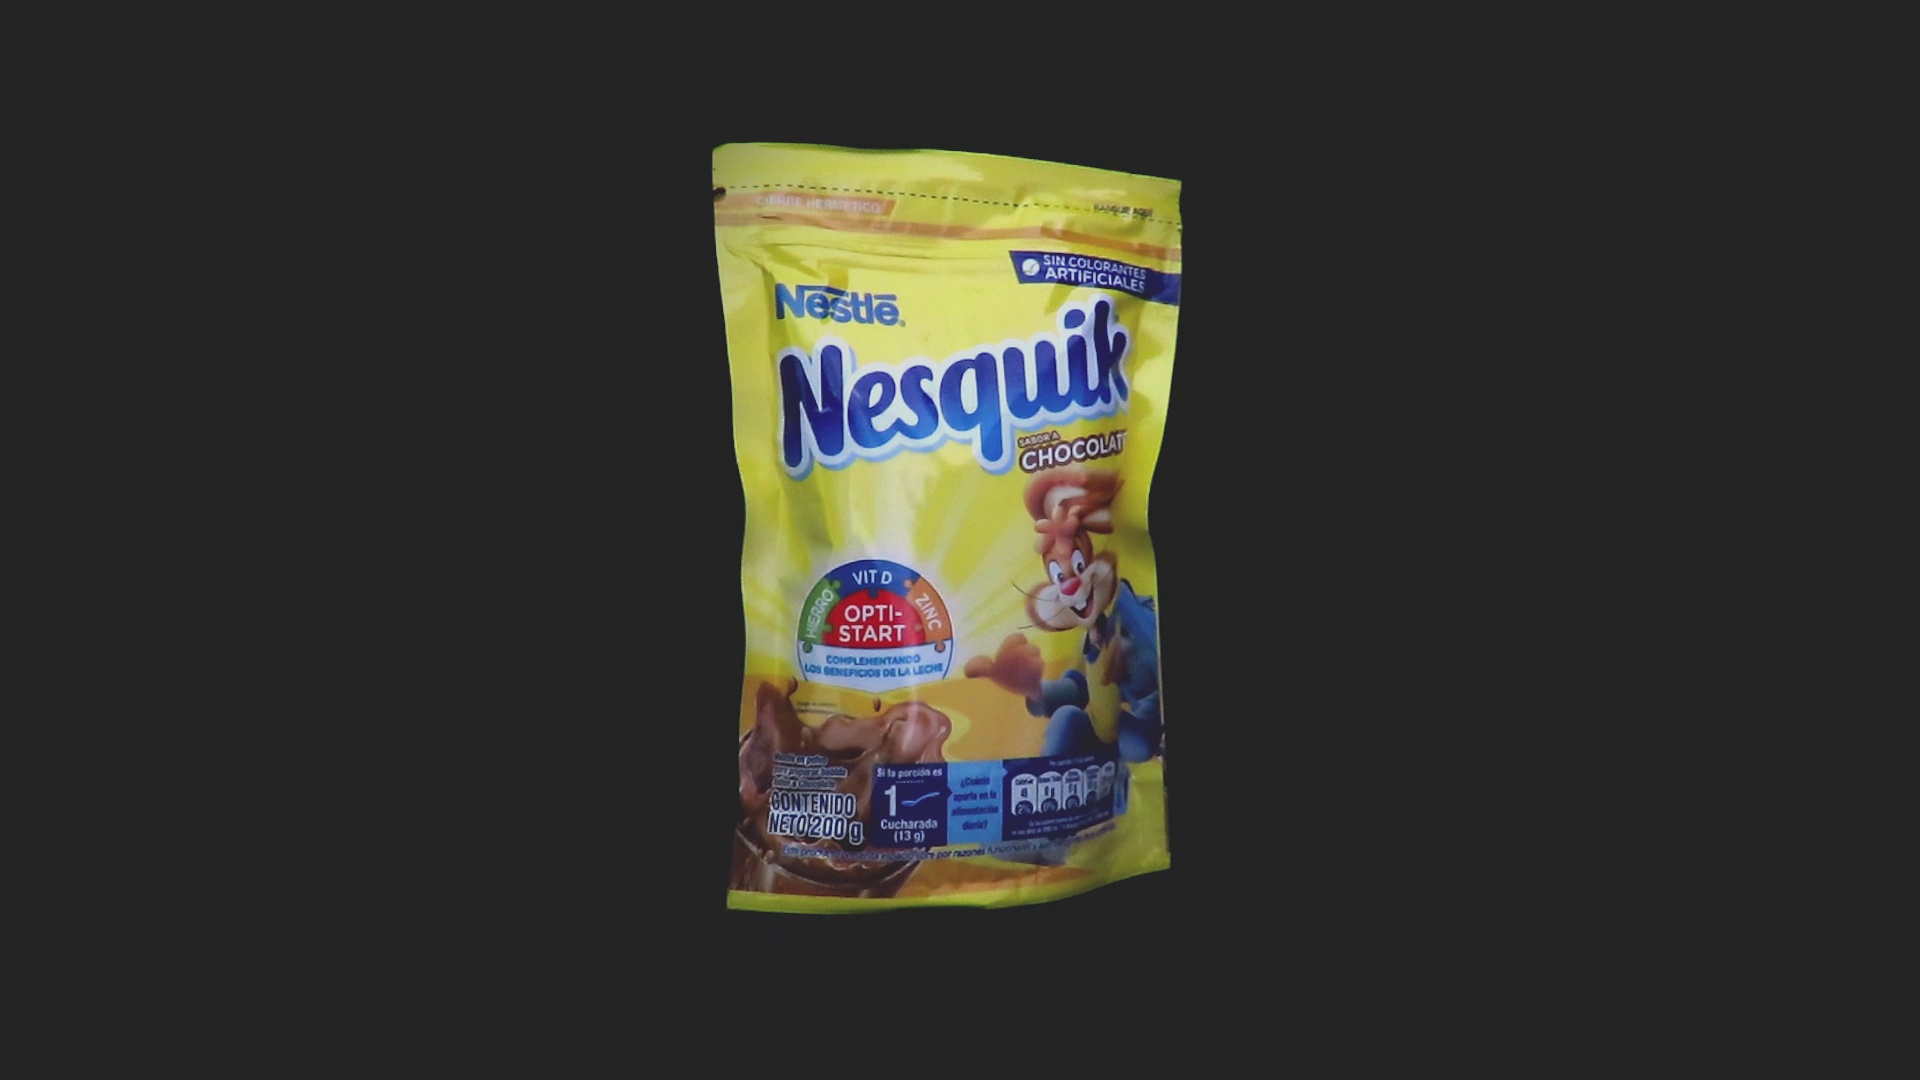COL0170303DYP20000: (707, 137, 1189, 920)
